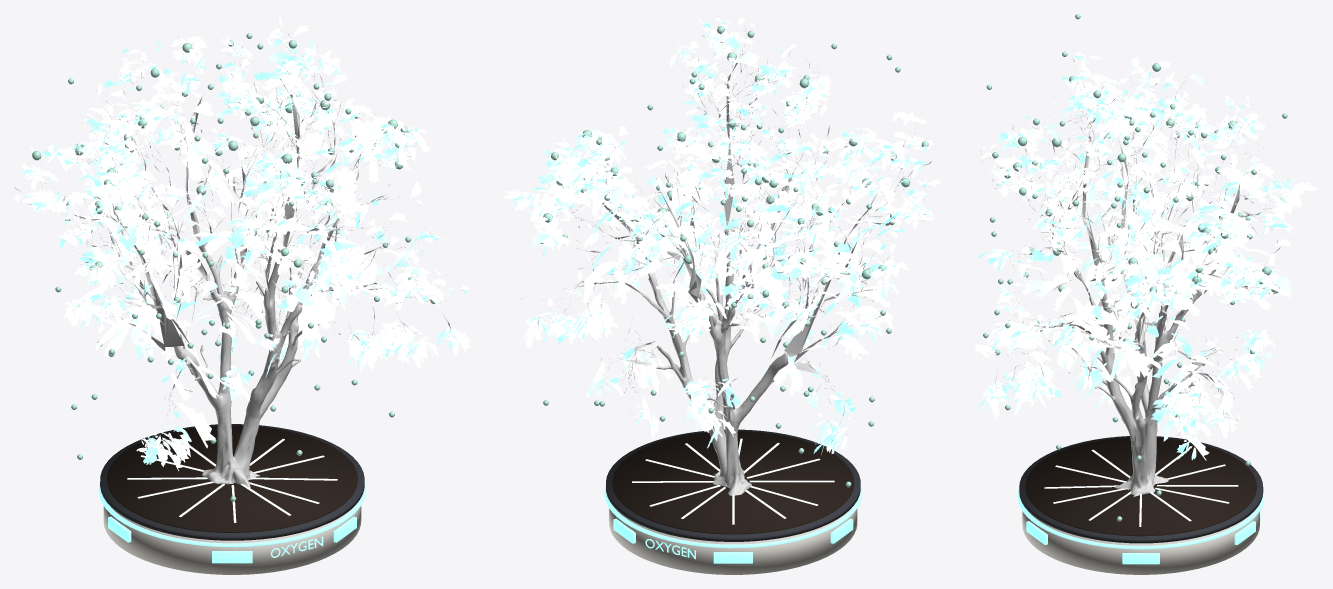
The model's file is OxygenTree.fbx.
3 views of the same model, side by side, from view 1: azimuth 30°, elevation 25°; view 2: azimuth 150°, elevation 25°; view 3: azimuth 270°, elevation 25° (orthographic). The views are drawn at different scales.
Parts seen in each view (by area): view 1: Jacaranda leaves, Soil, Jacaranda trunk, Jacaranda branches, Planter, Planter rim, Rim light; view 2: Jacaranda leaves, Soil, Jacaranda branches, Jacaranda trunk, Planter, Planter rim, Rim light; view 3: Jacaranda leaves, Soil, Planter, Jacaranda trunk, Jacaranda branches, Planter rim, Rim light, Vent.
Boxes of the visible parts, left/top/right/bottom form: Jacaranda leaves: left=14, top=14, right=472, bottom=470; Soil: left=107, top=425, right=357, bottom=532; Jacaranda trunk: left=174, top=242, right=320, bottom=487; Jacaranda branches: left=15, top=33, right=463, bottom=451; Planter: left=103, top=506, right=361, bottom=574; Planter rim: left=100, top=424, right=364, bottom=540; Rim light: left=98, top=481, right=365, bottom=547; Jacaranda leaves: left=502, top=16, right=941, bottom=454; Soil: left=612, top=431, right=854, bottom=534; Jacaranda branches: left=517, top=16, right=931, bottom=441; Jacaranda trunk: left=641, top=227, right=788, bottom=495; Planter: left=609, top=508, right=857, bottom=574; Planter rim: left=606, top=429, right=860, bottom=541; Rim light: left=604, top=484, right=861, bottom=548; Jacaranda leaves: left=973, top=51, right=1318, bottom=460; Soil: left=1025, top=437, right=1256, bottom=536; Planter: left=1022, top=511, right=1259, bottom=574; Jacaranda trunk: left=1087, top=275, right=1201, bottom=496; Jacaranda branches: left=980, top=59, right=1280, bottom=435; Planter rim: left=1019, top=436, right=1263, bottom=543; Rim light: left=1018, top=489, right=1264, bottom=549; Vent: left=1122, top=553, right=1159, bottom=564.
Bounding box in the file's own units: 6.97 × 8.18 × 5.57.
